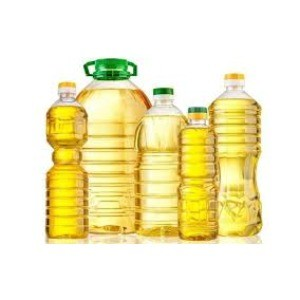vegetable oil_brain food: (85, 98, 134, 237), (137, 129, 176, 235), (216, 126, 253, 229), (42, 127, 77, 235), (179, 137, 211, 235)
